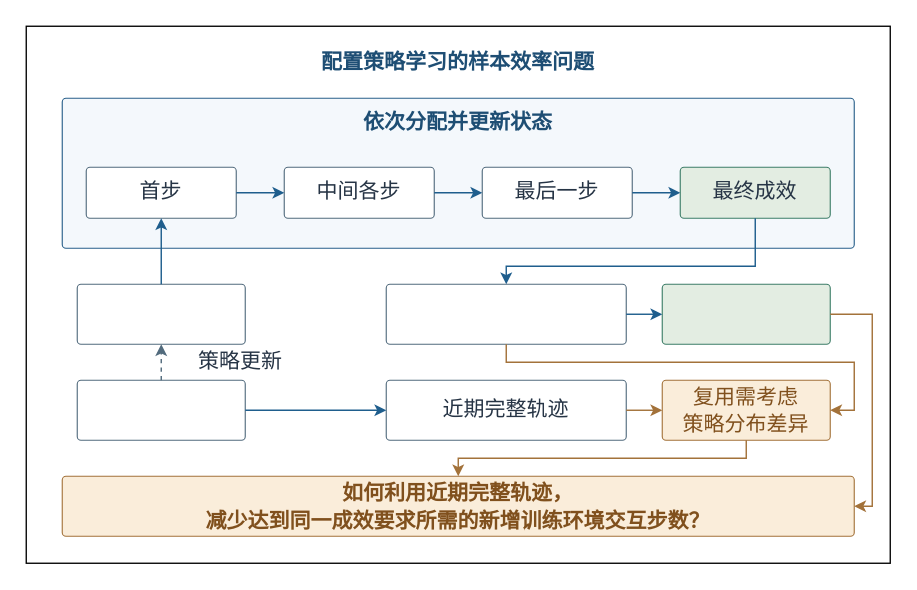
Some shapes in this 917 by 590 pixel diagram are drawn without their labels. The shapes that lost their labels are listed below. From the top down, each one's centre as x and y in pixels, then its label:
(x=160, y=313): 当前策略
(x=505, y=313): 新完整轨迹
(x=745, y=313): 采集需要 完整回合
(x=160, y=409): 先前策略
